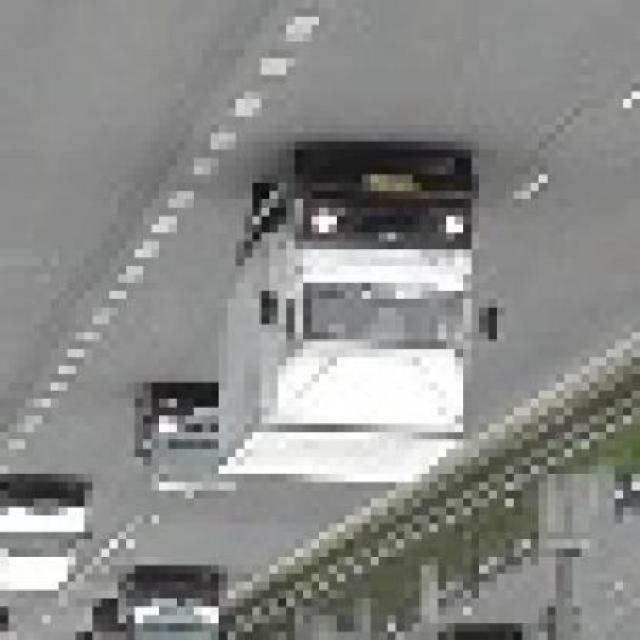truck: (228, 167, 506, 492)
